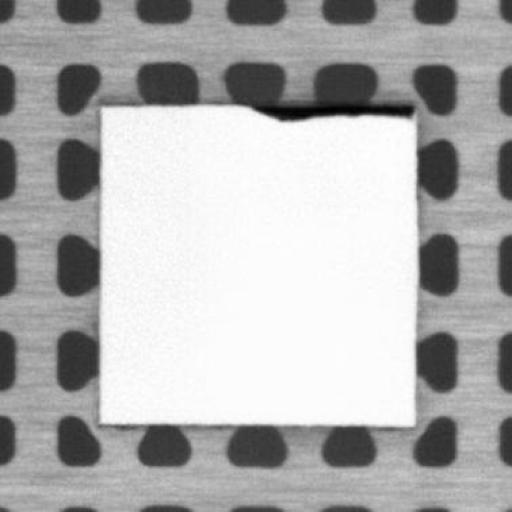DIE_BROKEN: (247, 100, 417, 123)
